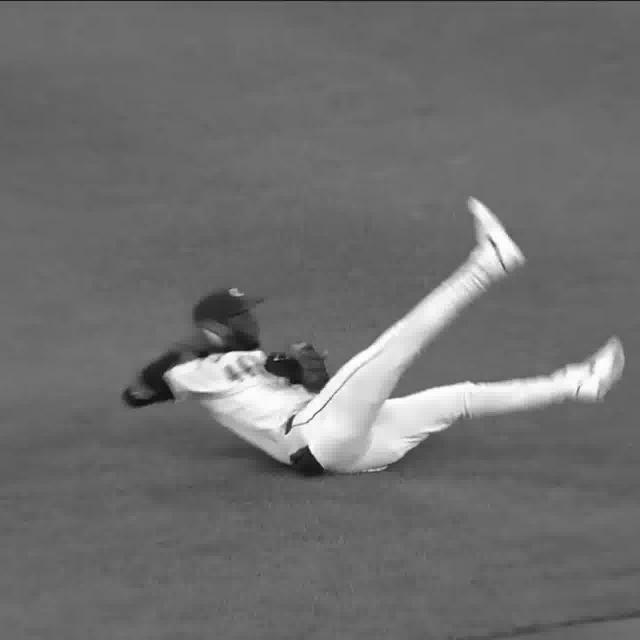baseball_glove: (260, 338, 330, 389)
shoe: (466, 196, 531, 272), (574, 333, 628, 406)
